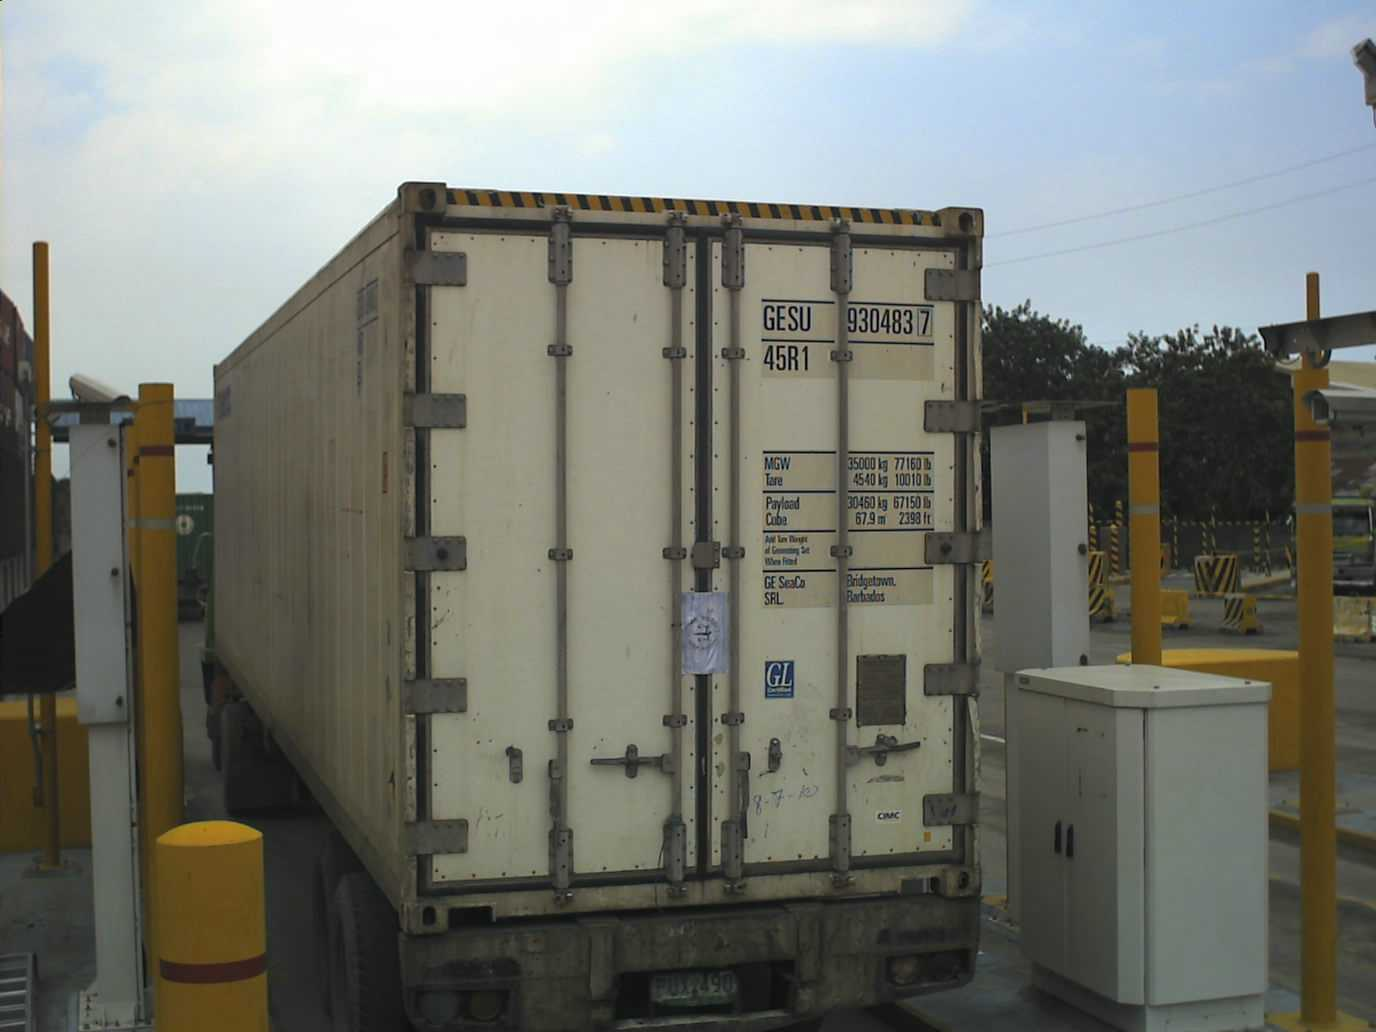container_door: (394, 179, 989, 910)
